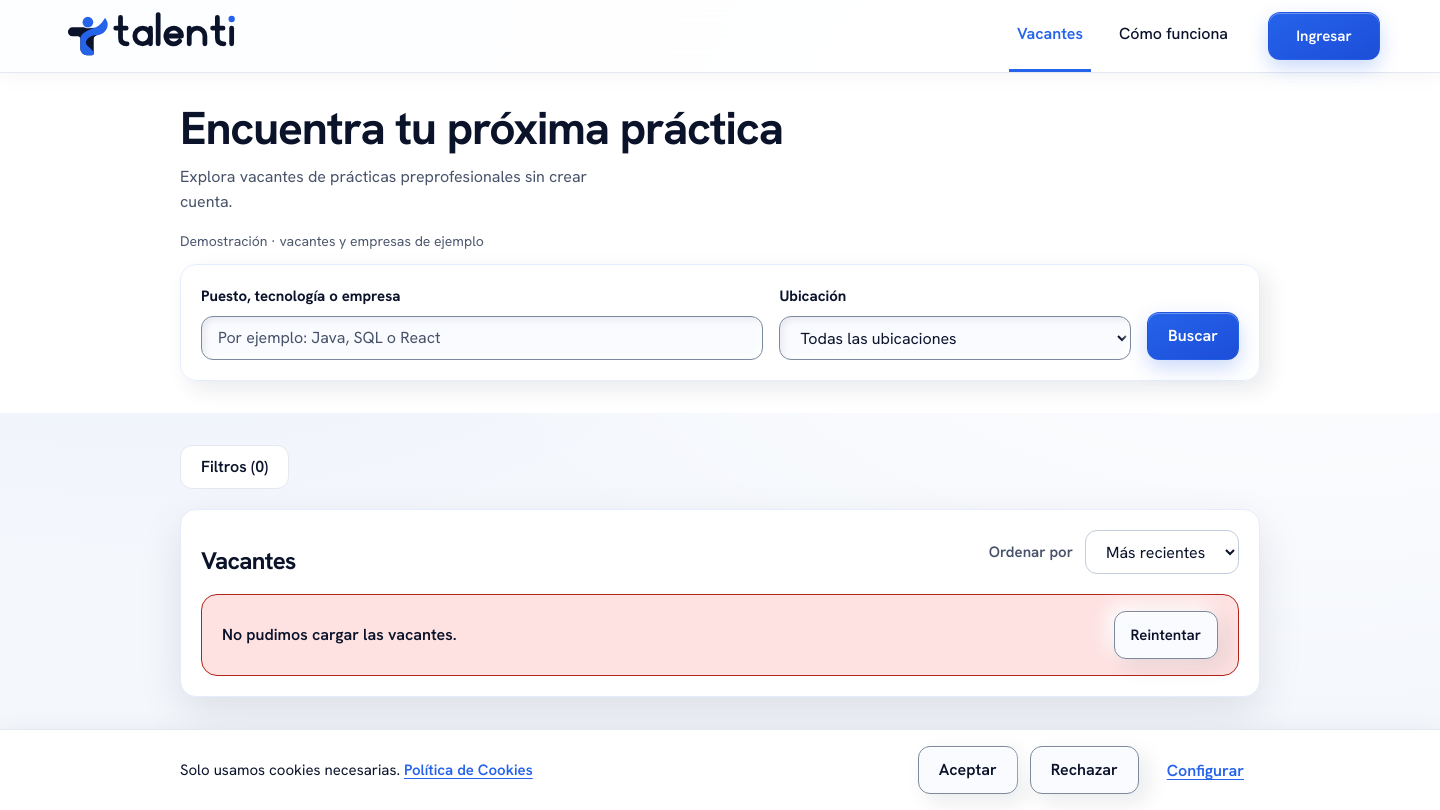
Page /oportunidades: states (004-19) › shows a role="alert" error with "Reintentar" and recovers
Expected: the message shows "No pudimos cargar las vacantes.", [222,624,457,645]
Click the button "Reintentar": x=1166, y=635 [1114,611,1218,659]
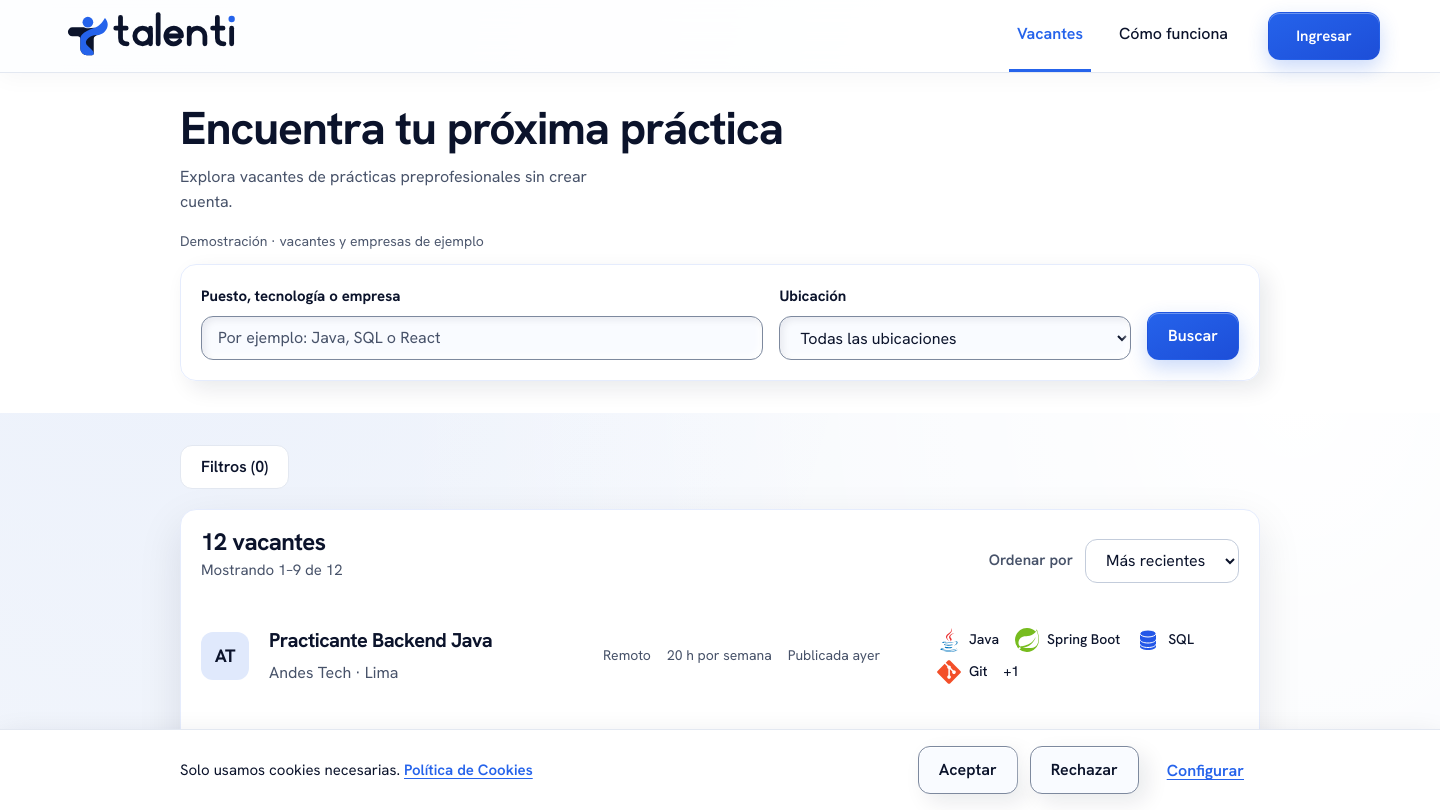
Expected: the heading "12 vacantes" is shown, [201,530,342,555]
Expected: the message "No pudimos cargar las vacantes. Reintentar" is gone
